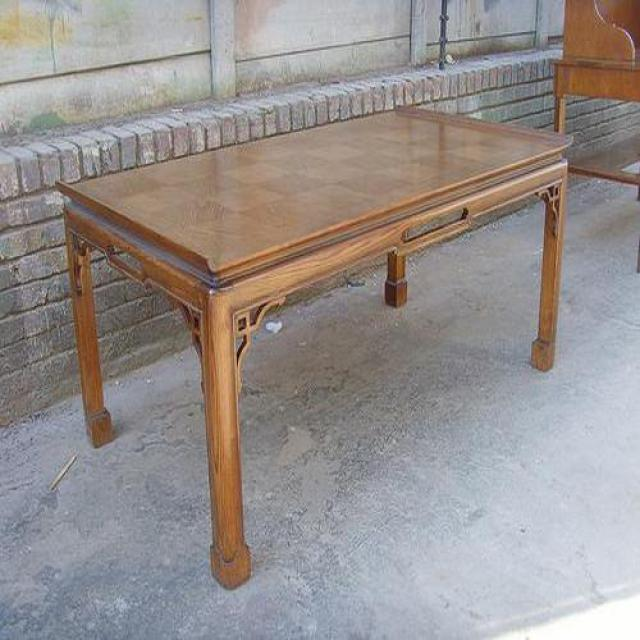table: (58, 108, 572, 591)
